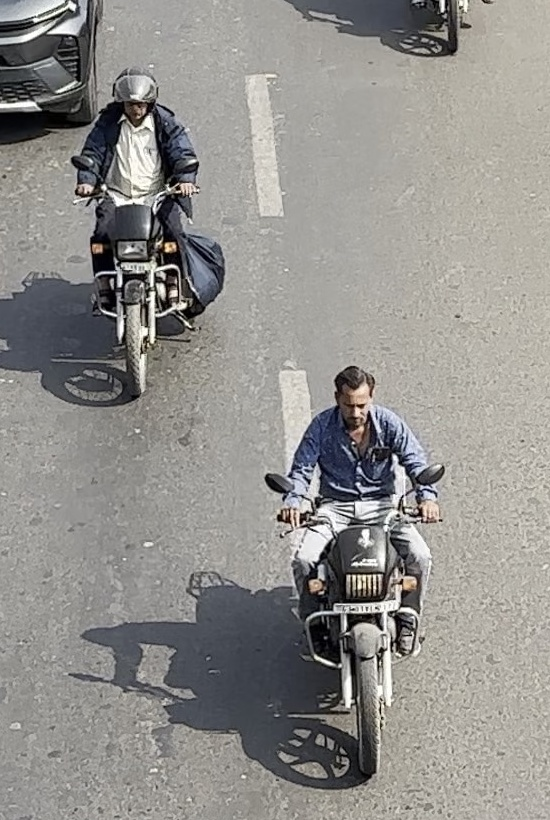BikeWithRider: (257, 358, 454, 785), (63, 61, 232, 404)
Helmet: (103, 62, 167, 128)
NoHelmet: (322, 360, 384, 433)
